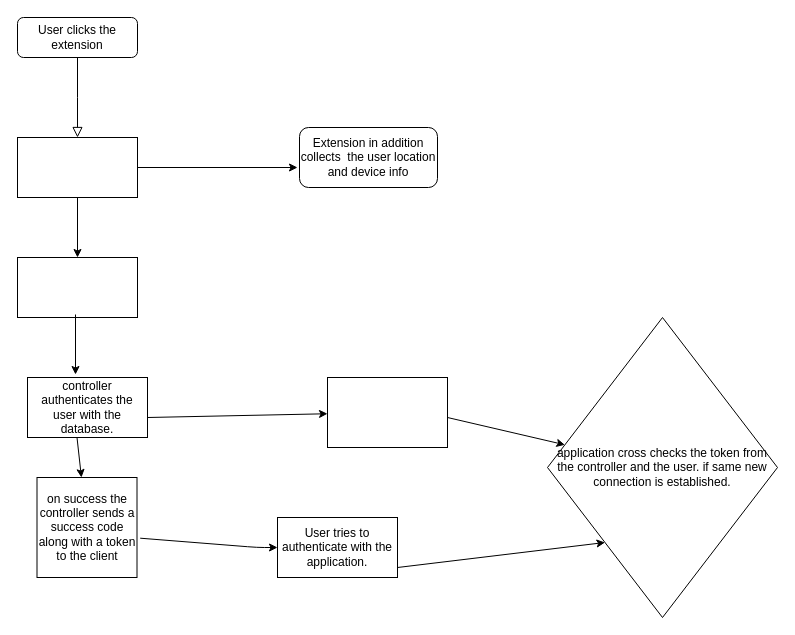
Some shapes in this 795 by 635 pixel diagram are drawn without their labels. The centre of each missing label's shape, as x and y in pixels:
"Enters the authentication details" goes at (x=77, y=167).
"Extension sends the data to the controller via post request" goes at (x=77, y=287).
"On success, the controller sends a token to the application WRT the user" goes at (x=387, y=412).
